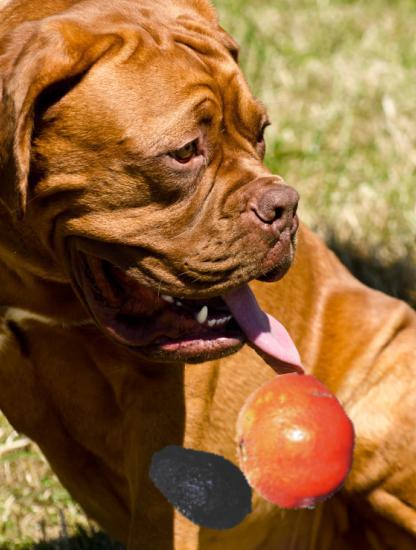Avocado: (145, 428, 259, 542)
Clementine: (226, 373, 366, 513)
